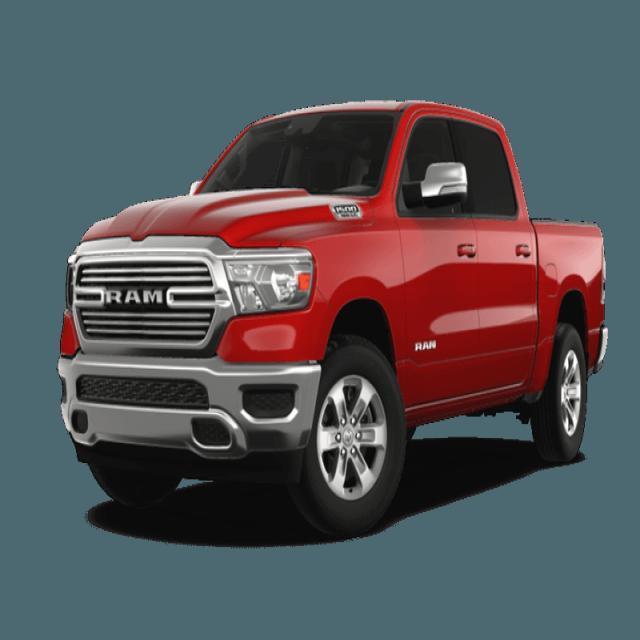person: (57, 96, 608, 538)
